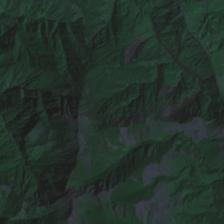landslides: (23, 70, 31, 83)
